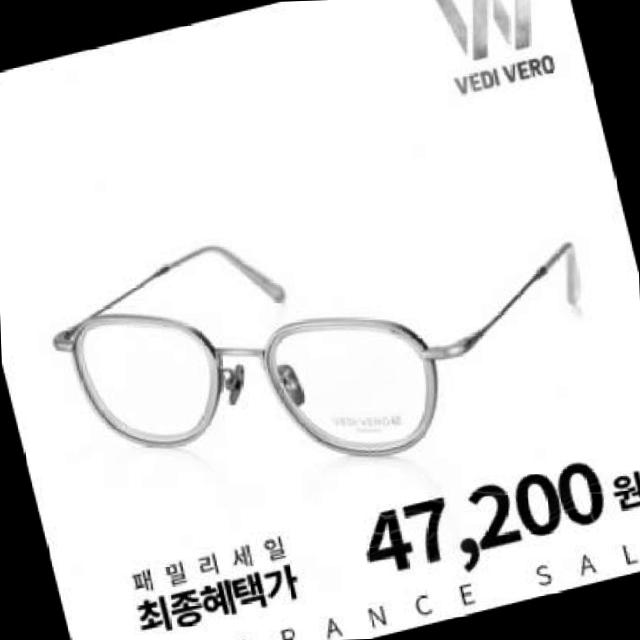glasses: (27, 154, 618, 532)
